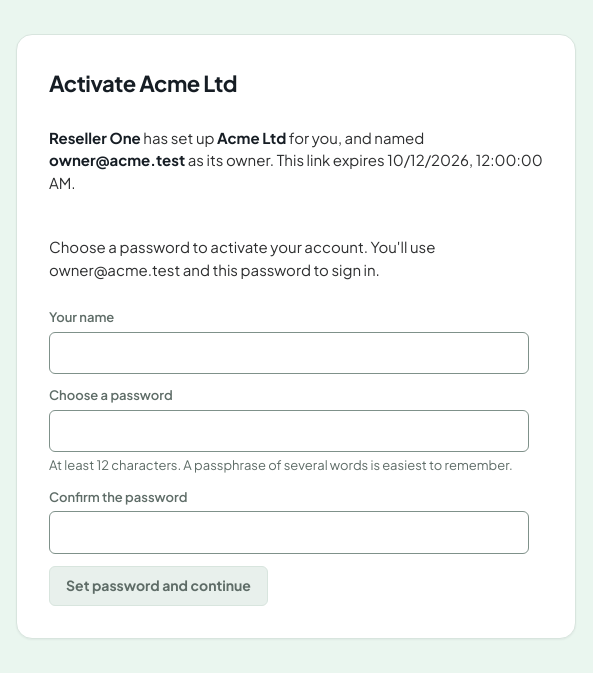
it: activating as a new person › checks the passwords match before anything is sent
In the field labelled "Your name": (289, 353) [49,332,529,374], type "Nadia"
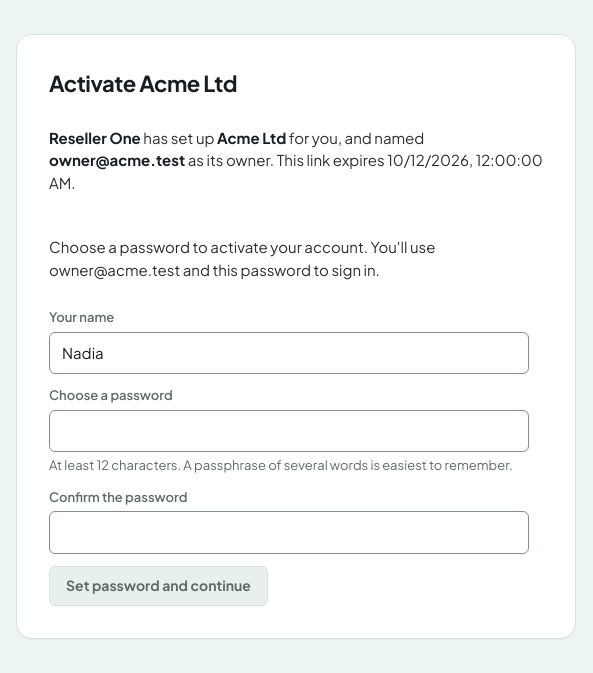
In the password field labelled "Choose a password": (289, 431) [49,410,529,452], type "one long passphrase"
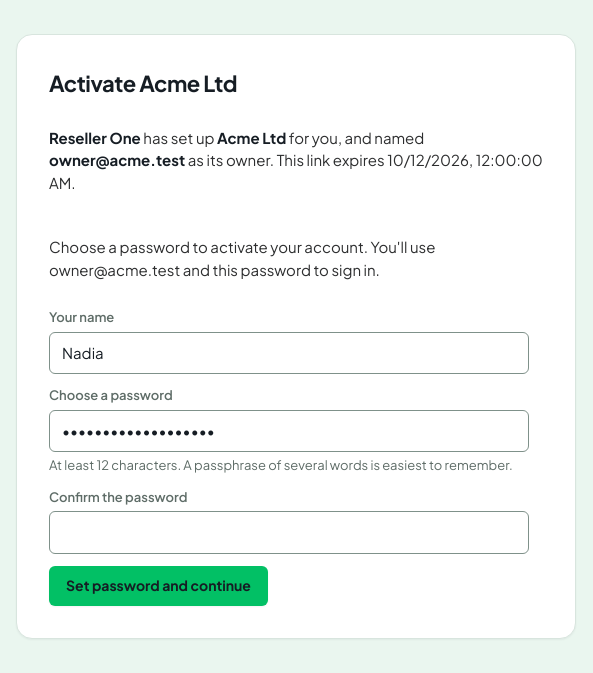
In the password field labelled "Confirm the password": (289, 532) [49,511,529,554], type "another passphrase"
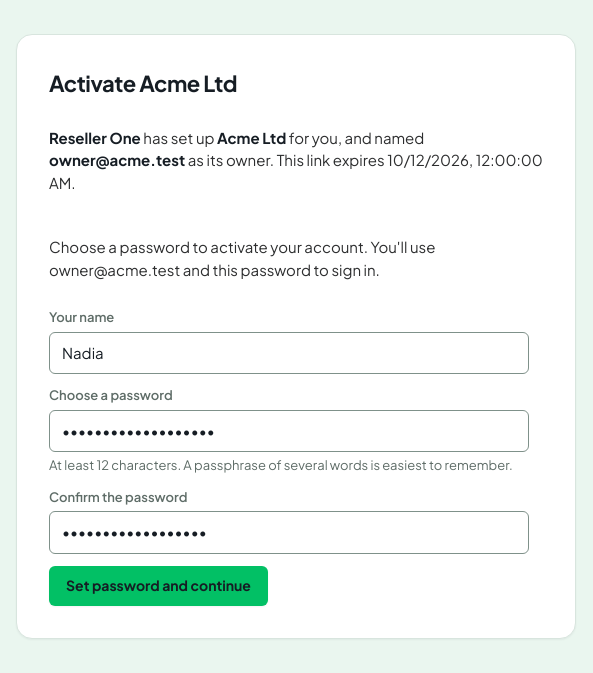
Click the button "Set password and continue": (158, 586) [49,566,268,606]
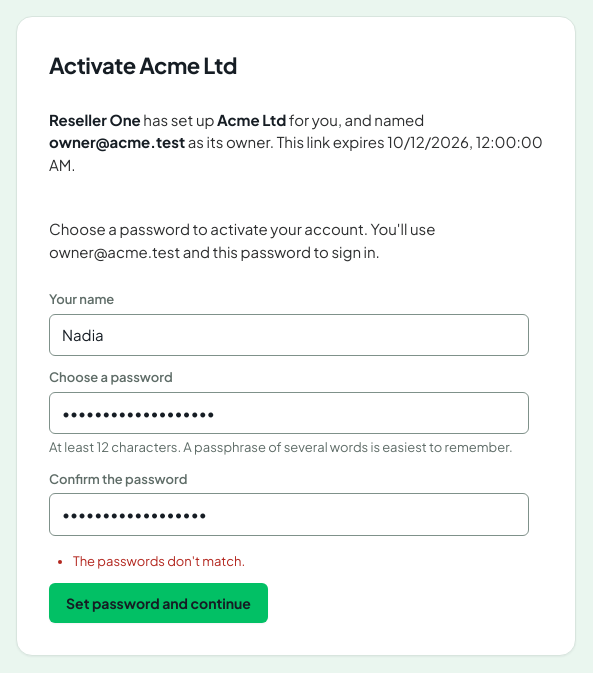
Check: the message reads "The passwords don't match.", box [73,553,245,569]
